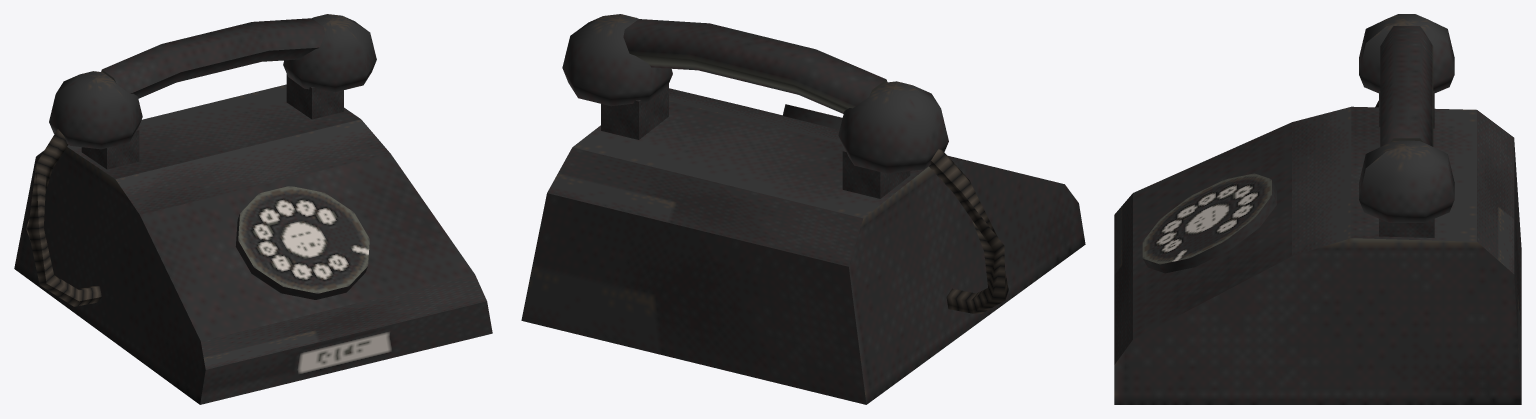
The model's file is phone_rotary.obj.
The picture shows the model from 3 angles, left to right: view 1: azimuth 30°, elevation 25°; view 2: azimuth 150°, elevation 25°; view 3: azimuth 270°, elevation 25°; orthographic projection. The views are drawn at different scales.
Visible parts, largest first — view 1: phone_rotary; view 2: phone_rotary; view 3: phone_rotary.
Boxes of the visible parts, left/top/right/bottom form: phone_rotary: left=14, top=14, right=492, bottom=404; phone_rotary: left=521, top=14, right=1085, bottom=404; phone_rotary: left=1114, top=14, right=1521, bottom=404.
Size of the model in its own units: 0.2412 by 0.1529 by 0.22.
1 material, 1 textured.
